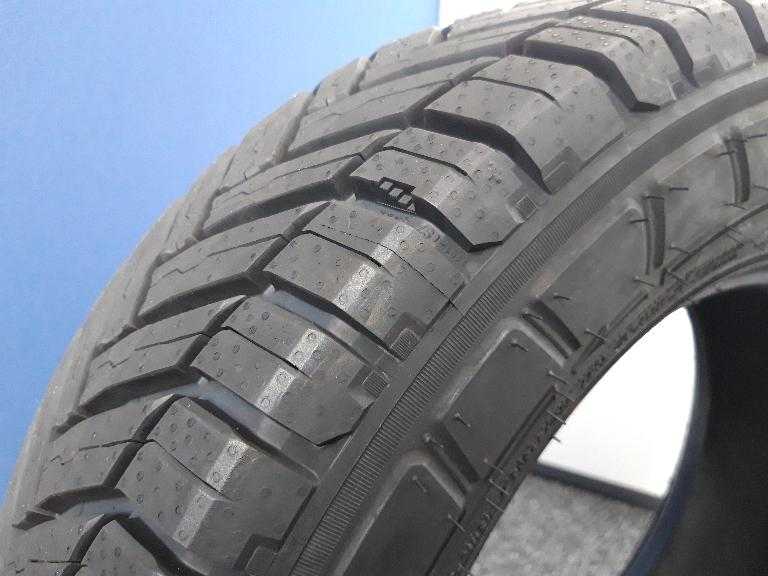temoin:100: (370, 176, 417, 216)
